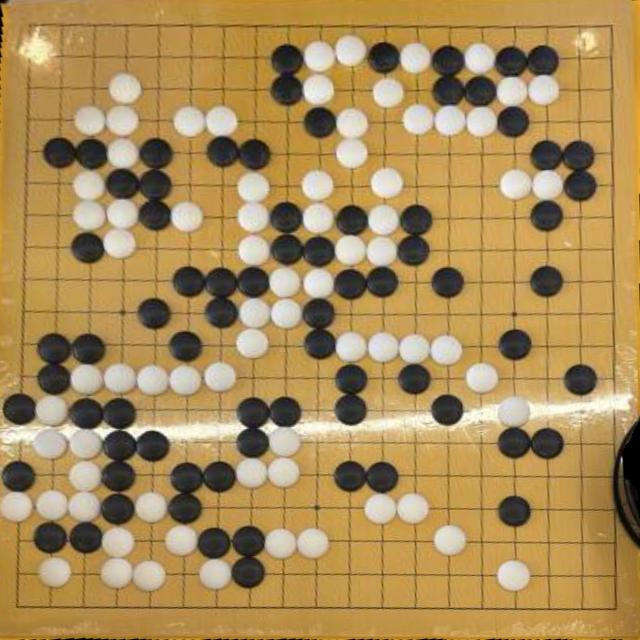blackstone: (68, 397, 105, 430), (71, 332, 106, 366), (69, 520, 104, 554), (530, 264, 564, 298), (103, 429, 138, 462), (138, 168, 174, 200), (167, 493, 203, 525), (564, 363, 598, 396), (334, 394, 368, 427), (564, 169, 598, 202), (3, 393, 37, 426), (103, 397, 137, 430), (1, 460, 36, 492), (100, 493, 135, 525), (101, 460, 136, 492), (499, 328, 532, 361), (431, 394, 464, 427), (397, 234, 430, 267), (270, 233, 303, 266), (303, 235, 336, 268), (71, 232, 105, 264), (138, 199, 172, 231), (38, 363, 72, 395), (136, 430, 170, 462), (34, 522, 68, 554), (37, 332, 71, 364), (75, 138, 109, 170), (106, 168, 140, 200), (198, 527, 232, 559), (232, 526, 266, 558), (170, 462, 204, 494), (232, 557, 266, 589), (139, 137, 174, 168), (530, 200, 563, 232), (498, 495, 531, 527), (531, 428, 564, 460), (498, 427, 531, 459), (334, 460, 367, 492), (270, 74, 303, 106), (400, 204, 433, 236), (172, 265, 205, 297), (44, 136, 76, 169), (366, 461, 399, 493), (368, 41, 401, 73), (530, 139, 563, 171), (270, 200, 302, 233), (205, 296, 238, 328), (302, 298, 335, 330), (237, 266, 270, 298), (205, 266, 238, 298), (562, 139, 596, 170), (432, 75, 466, 106), (495, 46, 529, 77), (304, 106, 336, 138), (239, 138, 271, 170), (269, 396, 301, 428), (432, 45, 464, 77), (137, 298, 170, 329), (497, 106, 530, 137), (398, 364, 431, 395), (464, 75, 497, 106), (334, 269, 367, 300), (527, 45, 560, 76), (237, 397, 270, 428), (203, 461, 236, 492), (270, 44, 304, 74), (432, 267, 464, 298), (170, 331, 202, 362), (335, 364, 367, 395), (367, 266, 399, 297), (336, 205, 368, 236), (237, 428, 270, 458), (304, 329, 336, 359), (207, 136, 239, 166)
whitestone: (32, 427, 68, 460), (35, 394, 69, 428), (164, 524, 198, 558), (69, 428, 104, 461), (70, 363, 105, 396), (433, 524, 468, 557), (396, 493, 431, 525), (296, 528, 331, 560), (38, 556, 73, 588), (497, 559, 532, 591), (364, 493, 397, 526), (72, 200, 106, 232), (267, 457, 301, 489), (103, 363, 137, 395), (69, 460, 103, 492), (134, 492, 168, 524), (205, 105, 239, 137), (35, 490, 69, 522), (101, 526, 135, 558), (497, 396, 531, 428), (199, 558, 233, 590), (100, 557, 134, 589), (132, 560, 166, 592), (303, 268, 336, 300), (238, 298, 271, 330), (238, 235, 271, 267), (269, 267, 302, 299), (106, 198, 139, 230), (107, 138, 140, 170), (73, 170, 106, 202), (68, 491, 101, 523), (106, 105, 139, 137), (0, 492, 33, 524), (303, 40, 336, 72), (109, 72, 142, 104), (268, 426, 302, 457), (103, 228, 137, 259), (236, 328, 270, 359), (366, 236, 398, 268), (334, 234, 366, 266), (368, 204, 400, 236), (335, 331, 367, 363), (303, 202, 335, 234), (528, 74, 560, 106), (265, 528, 297, 560), (464, 42, 496, 74), (335, 35, 367, 67), (237, 201, 270, 232), (137, 365, 170, 396), (235, 458, 268, 489), (171, 201, 204, 232), (173, 106, 206, 137), (499, 169, 532, 200), (271, 298, 303, 329), (368, 332, 400, 363), (399, 333, 430, 365), (466, 106, 497, 138), (431, 335, 463, 366), (170, 365, 202, 396), (402, 104, 434, 135), (302, 170, 334, 201), (238, 171, 270, 202), (303, 74, 335, 105), (466, 362, 498, 393), (532, 169, 564, 200), (74, 105, 106, 136), (400, 42, 432, 73), (371, 168, 404, 198), (434, 105, 465, 136), (496, 76, 527, 107), (336, 138, 368, 168), (204, 362, 236, 392), (337, 108, 369, 138), (372, 78, 404, 108)
